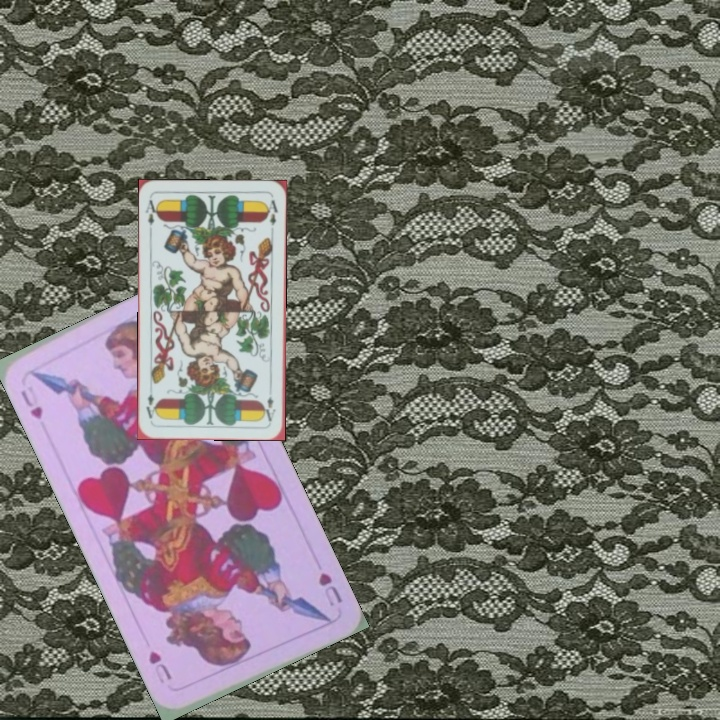EA: (141, 195, 161, 235), (261, 393, 278, 424)
HU: (314, 568, 345, 609), (16, 386, 46, 422)
